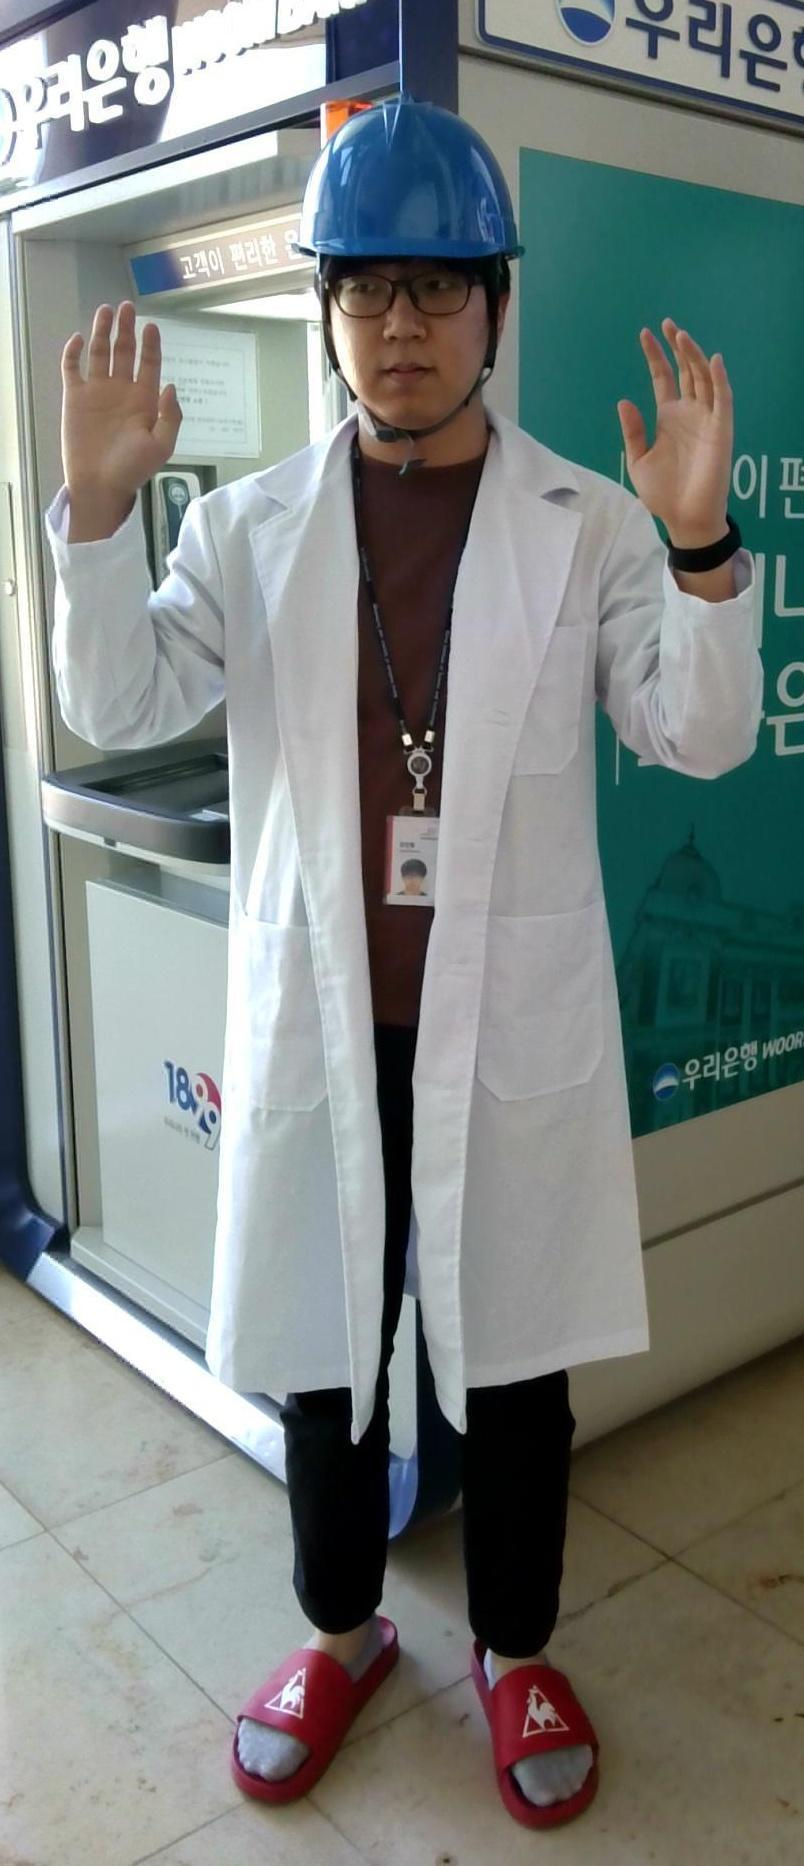lab_coat: (181, 501, 647, 1392)
